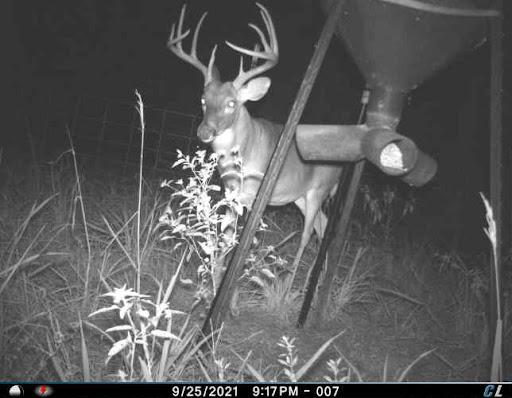Deer: (162, 0, 353, 297)
